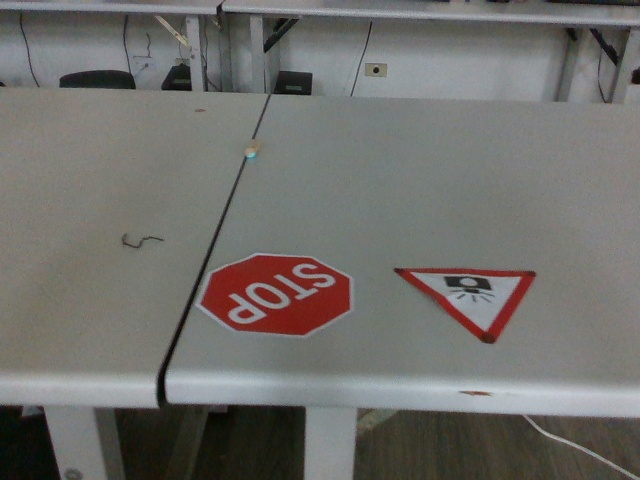camera: (392, 263, 542, 347)
stop: (200, 252, 362, 340)
